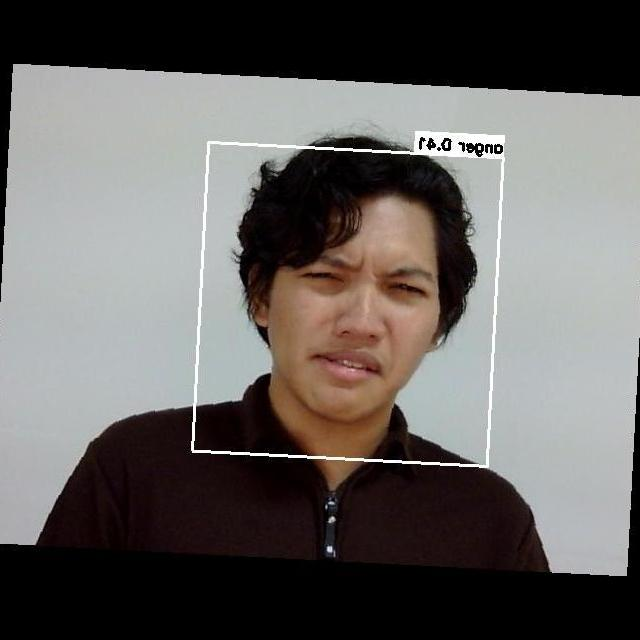Disgust: (259, 227, 456, 408)
